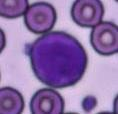M: (29, 31, 87, 88)
